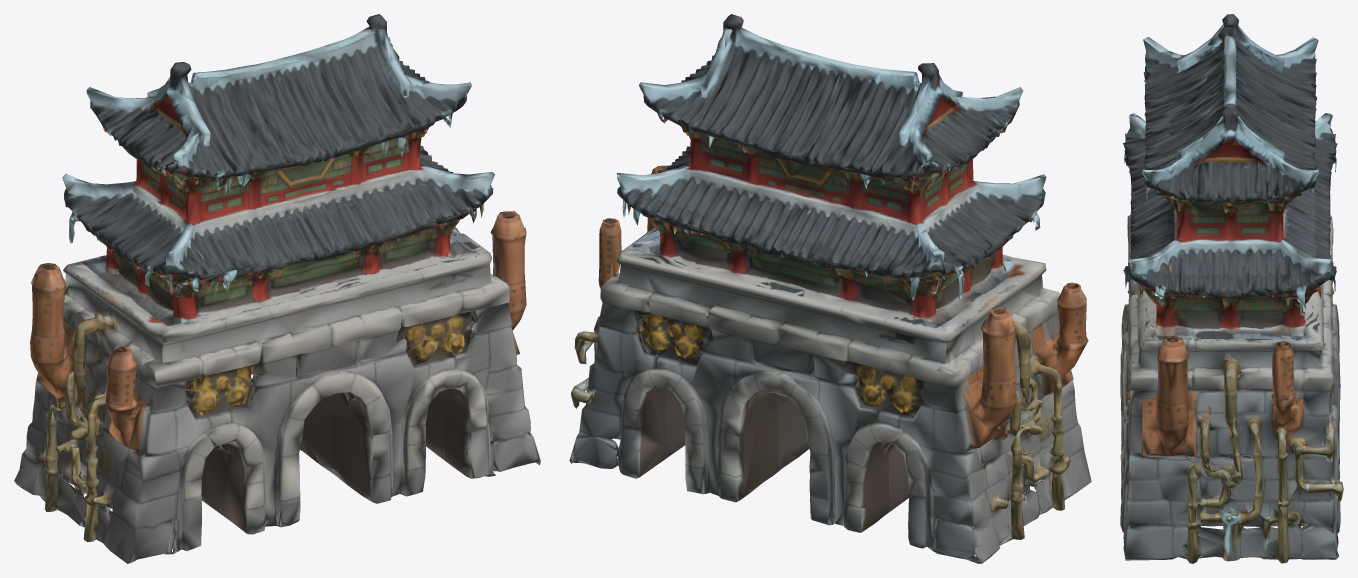
File: NMJ_Gwanghwamun.fbx
3 views of the same model, side by side, from view 1: azimuth 30°, elevation 25°; view 2: azimuth 150°, elevation 25°; view 3: azimuth 270°, elevation 25° (orthographic). The views are drawn at different scales.
Parts seen in each view (by area): view 1: NMJ_Gwanghwamun; view 2: NMJ_Gwanghwamun; view 3: NMJ_Gwanghwamun.
Boxes of the visible parts, x1,y1,x2,y2 form: NMJ_Gwanghwamun: (14, 14, 540, 563); NMJ_Gwanghwamun: (569, 14, 1091, 563); NMJ_Gwanghwamun: (1120, 14, 1343, 563).
Bounding box in the file's own units: 30.97 × 30 × 14.93.
